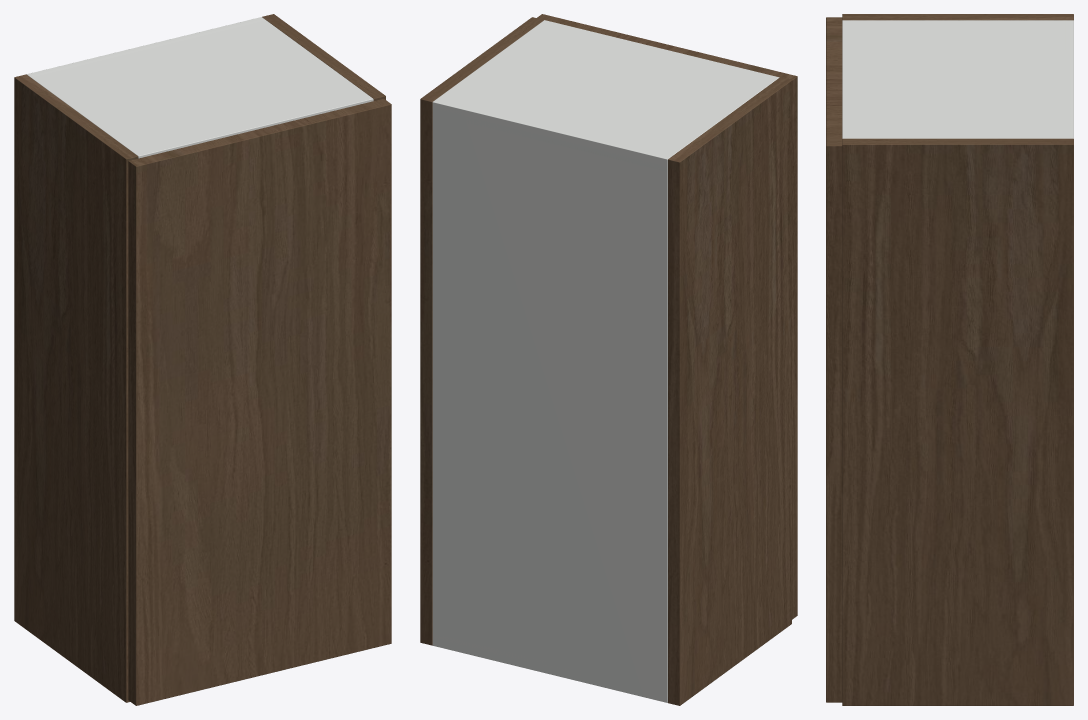
Rendered from oppein-pb-mso-w1530.glb.
The picture shows the model from 3 angles, left to right: view 1: azimuth 30°, elevation 25°; view 2: azimuth 150°, elevation 25°; view 3: azimuth 270°, elevation 25°; orthographic projection. The views are drawn at different scales.
Parts seen in each view (by area): view 1: Door, Cabinet side, Cabinet top, Cabinet side.001, Cabinet back; view 2: Cabinet back, Cabinet side, Cabinet top, Cabinet side.001, Door; view 3: Cabinet side.001, Cabinet top, Door, Cabinet side, Cabinet back.
Part boxes in pixels (x1,y1,x2,y2): Door: [128, 98, 391, 705]; Cabinet side: [14, 74, 138, 702]; Cabinet top: [27, 20, 373, 158]; Cabinet side.001: [262, 14, 385, 100]; Cabinet back: [27, 17, 265, 77]; Cabinet back: [432, 98, 671, 702]; Cabinet side: [668, 77, 791, 705]; Cabinet top: [432, 20, 779, 171]; Cabinet side.001: [420, 17, 543, 645]; Door: [537, 14, 797, 619]; Cabinet side.001: [842, 138, 1073, 705]; Cabinet top: [842, 20, 1073, 138]; Door: [826, 17, 842, 702]; Cabinet side: [842, 14, 1073, 20]; Cabinet back: [1064, 20, 1073, 138].
Size of the model in its own units: 0.381 by 0.762 by 0.3048.
2 materials, 1 textured.
